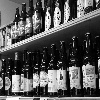beer: (48, 44, 60, 100)
